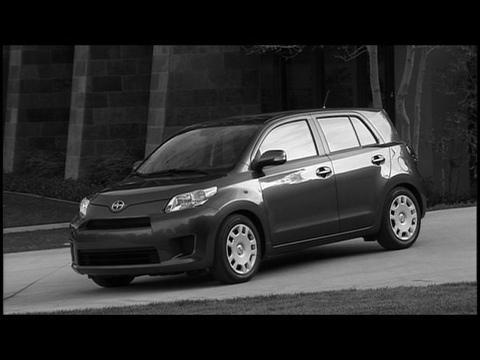car: (66, 106, 429, 292)
